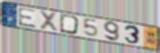3: (124, 24, 142, 45)
5: (82, 17, 100, 38)
9: (102, 21, 121, 42)
D: (59, 13, 81, 36)
E: (18, 7, 39, 30)
X: (39, 9, 59, 34)
